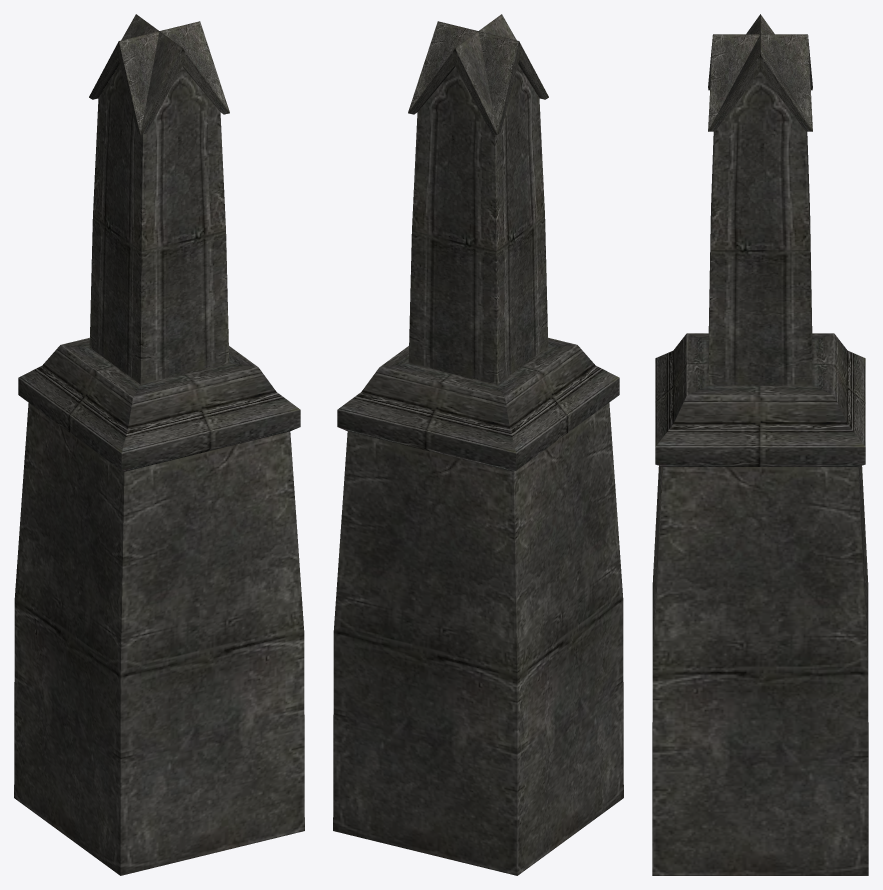
File: eso_gu11_GraveyardFence2-transformed.glb
The picture shows the model from 3 angles, left to right: view 1: azimuth 30°, elevation 25°; view 2: azimuth 150°, elevation 25°; view 3: azimuth 270°, elevation 25°; orthographic projection.
Parts seen in each view (by area): view 1: default; view 2: default; view 3: default.
Part boxes in pixels (x1,y1,x2,y2): default: [14, 14, 304, 875]; default: [333, 14, 623, 875]; default: [652, 14, 868, 875].
Bounding box in the file's own units: 2.19 × 8.91 × 2.19.
1 material, 1 textured.
